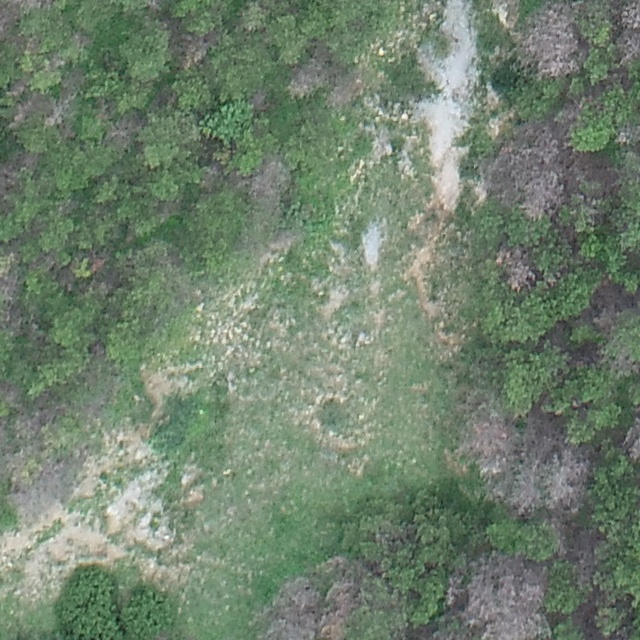unhealthy: (484, 122, 574, 220), (468, 548, 556, 640), (509, 0, 584, 79), (9, 455, 86, 529), (453, 402, 515, 477), (507, 435, 551, 517), (272, 574, 321, 640), (557, 521, 603, 588), (547, 452, 593, 510), (8, 399, 65, 440), (320, 575, 355, 640), (46, 73, 88, 124), (494, 243, 537, 292), (0, 152, 44, 194), (247, 160, 293, 199), (287, 58, 330, 98), (330, 67, 369, 108), (180, 31, 218, 68), (103, 110, 145, 142), (10, 86, 42, 125), (617, 32, 640, 69), (622, 419, 640, 460), (445, 572, 466, 607), (620, 0, 640, 32), (551, 103, 581, 124), (613, 123, 640, 145), (249, 89, 270, 112), (89, 255, 106, 273)
